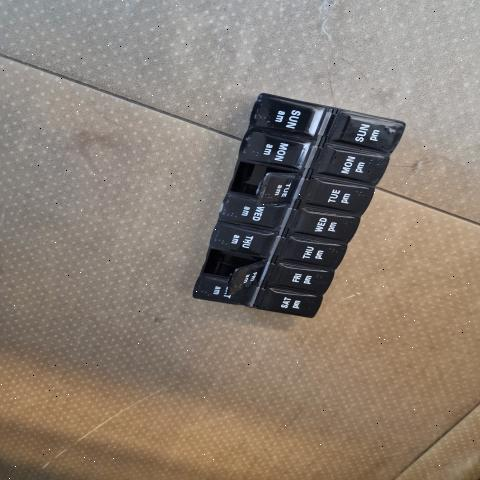Open: (228, 161, 299, 204), (200, 249, 267, 279)
